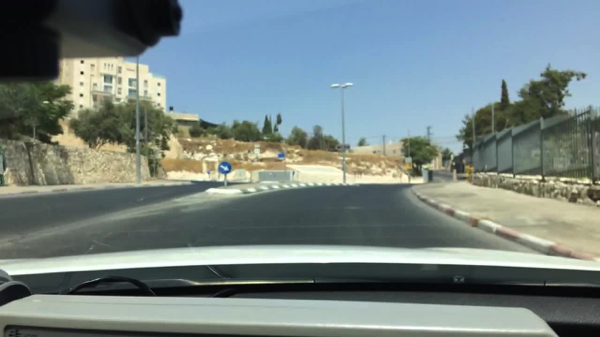traffic sign: (218, 162, 232, 175), (405, 165, 412, 171), (278, 153, 286, 158), (403, 158, 411, 162)
